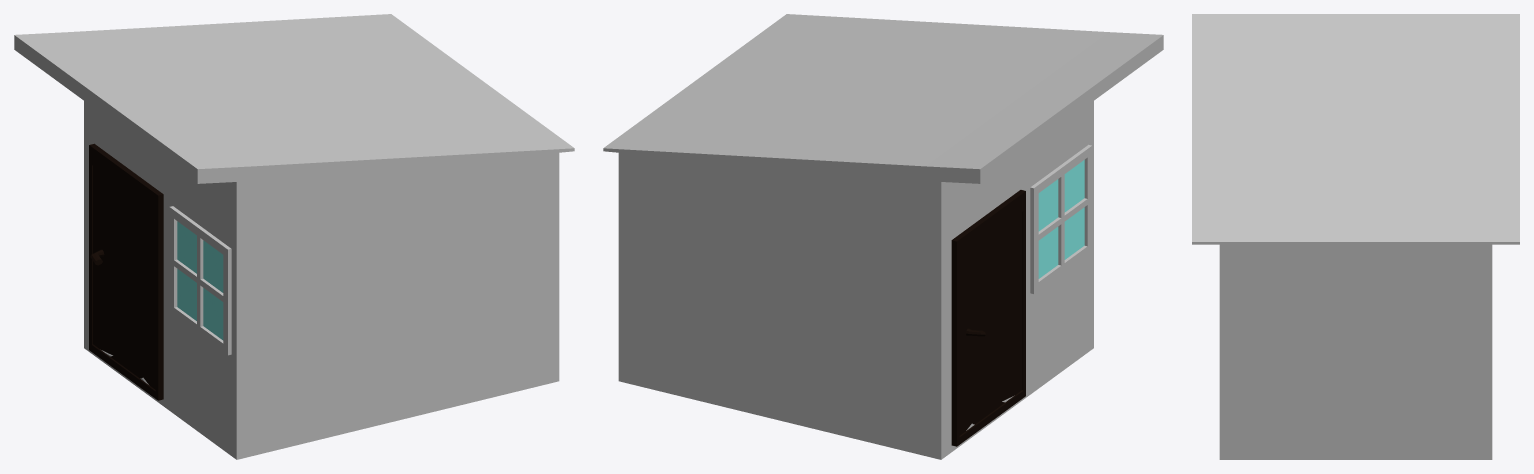
File: gallinero.obj
3 renders of one model, left to right at view 1: azimuth 30°, elevation 25°; view 2: azimuth 150°, elevation 25°; view 3: azimuth 270°, elevation 25°, orthographic. The views are drawn at different scales.
Parts seen in each view (by area): view 1: barn; view 2: barn; view 3: barn.
Part boxes in pixels (x1=…): barn: x1=14, y1=14, x2=574, y2=459; barn: x1=603, y1=14, x2=1163, y2=459; barn: x1=1192, y1=14, x2=1519, y2=459.
Size of the model in its own units: 13.41 by 10.71 by 11.3.
